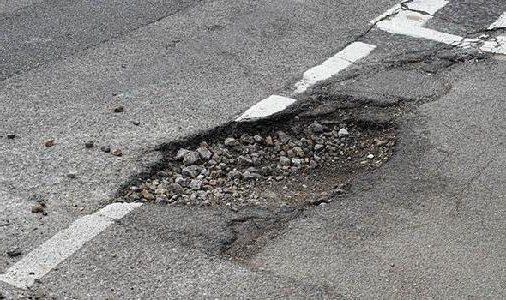pothole: (109, 98, 401, 214), (215, 214, 278, 266), (388, 46, 487, 75)
